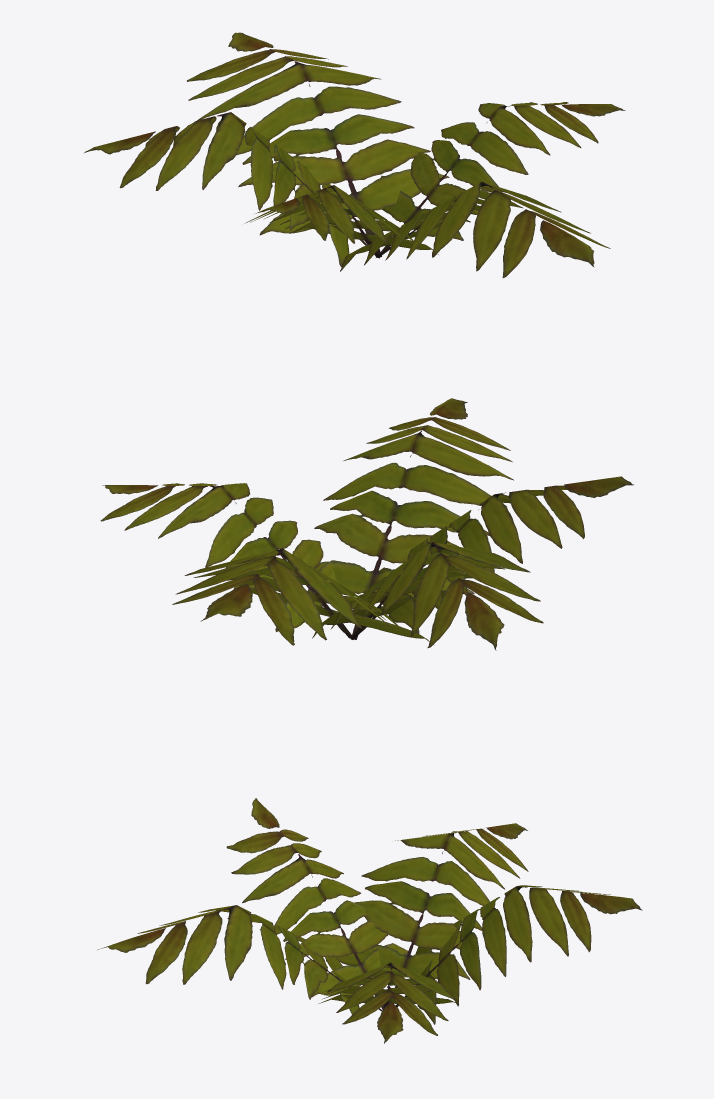
File: kqzd_zhiwu_1.FBX
3 renders of one model, top to bottom at view 1: azimuth 30°, elevation 25°; view 2: azimuth 150°, elevation 25°; view 3: azimuth 270°, elevation 25°, orthographic. The views are drawn at different scales.
Parts seen in each view (by area): view 1: kqzd_zhiwu_1; view 2: kqzd_zhiwu_1; view 3: kqzd_zhiwu_1.
Boxes of the visible parts, <box> form: kqzd_zhiwu_1: <box>83,32,625,277</box>; kqzd_zhiwu_1: <box>100,398,634,650</box>; kqzd_zhiwu_1: <box>97,798,642,1043</box>.
Size of the model in its own units: 117 by 129 by 29.84.
